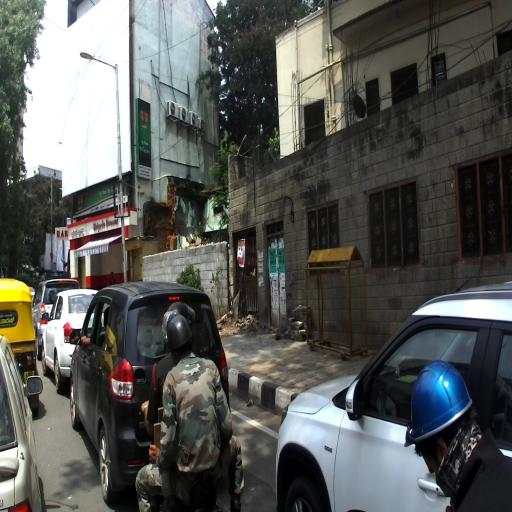street_light_0: (80, 52, 118, 70)
